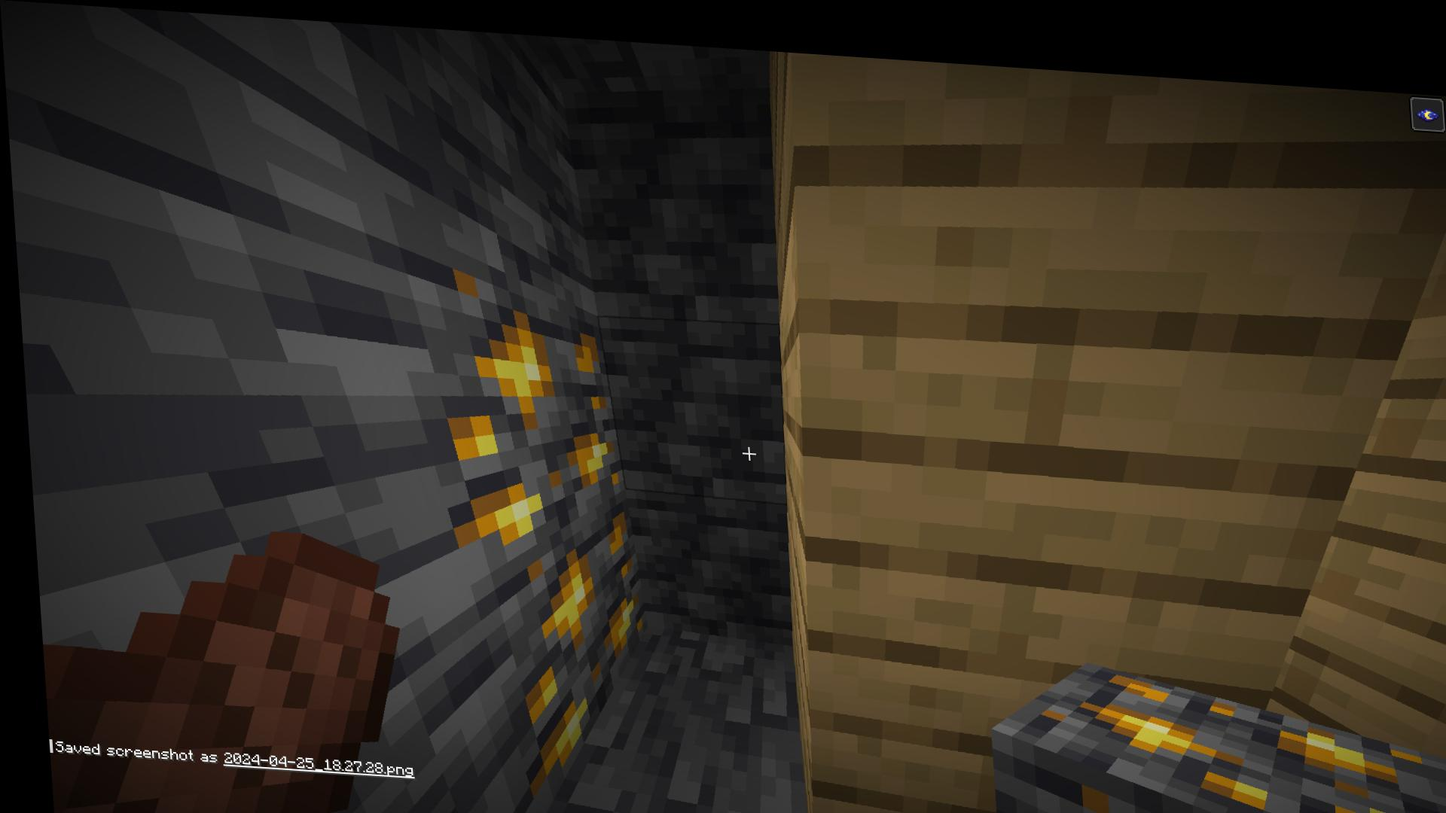gold ore: (1015, 649, 1446, 813), (407, 255, 621, 529), (501, 492, 644, 742)
